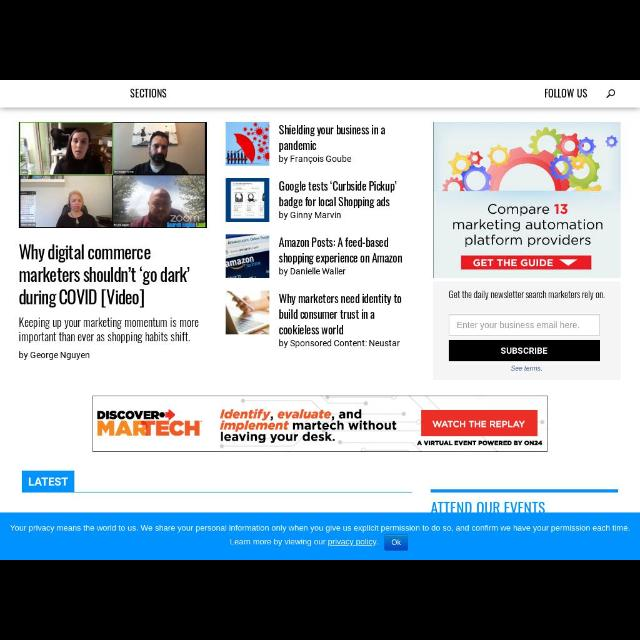icon: (606, 90, 616, 98)
iframe: (434, 122, 620, 278), (93, 396, 547, 452)
image: (20, 122, 206, 228), (226, 122, 270, 166), (226, 178, 270, 222), (227, 291, 270, 335), (227, 236, 270, 278)
input: (448, 315, 600, 335)
text: (19, 244, 190, 308), (278, 294, 402, 334), (11, 525, 630, 533), (19, 317, 199, 343), (279, 181, 397, 209), (280, 238, 402, 264), (279, 126, 386, 152), (450, 291, 604, 301), (431, 502, 545, 514), (230, 539, 378, 547), (280, 339, 400, 348), (458, 322, 578, 330), (20, 351, 90, 361), (279, 211, 341, 221), (278, 156, 352, 164), (279, 268, 345, 276), (544, 88, 588, 98), (28, 478, 68, 487), (131, 90, 167, 98), (500, 348, 548, 354), (512, 366, 542, 370), (392, 538, 401, 546)
textbutton: (450, 341, 600, 362), (384, 536, 408, 550)
toolbar: (1, 81, 639, 107)
